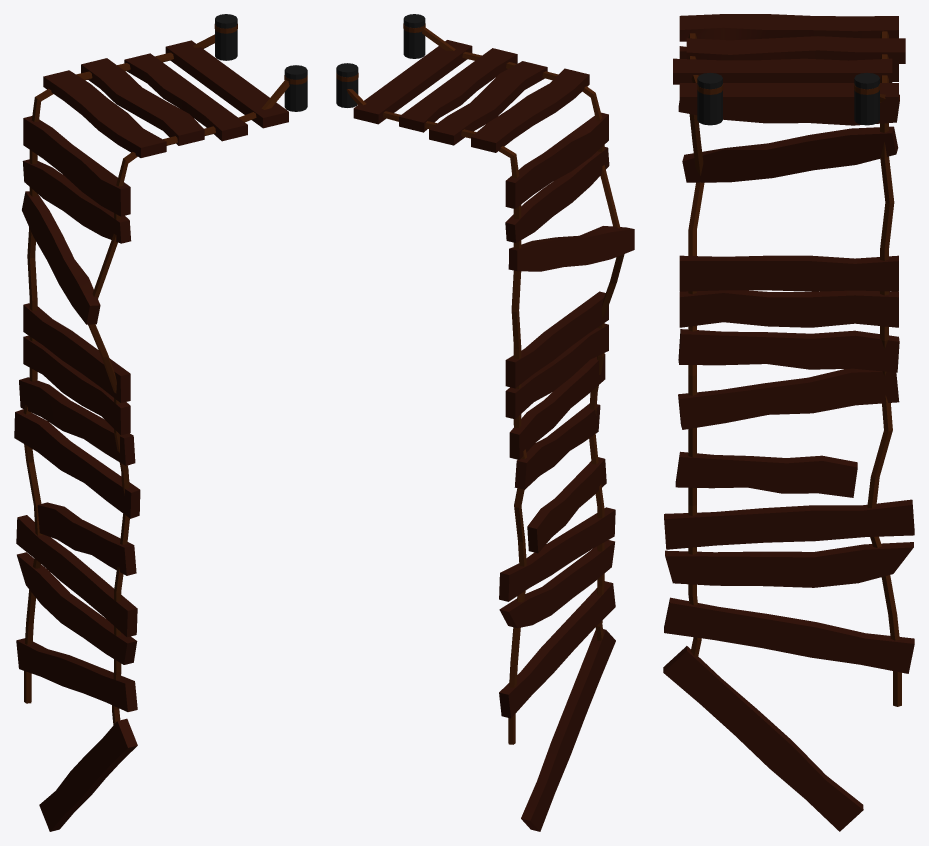
File: Broken Bridge.FBX
The picture shows the model from 3 angles, left to right: view 1: azimuth 30°, elevation 25°; view 2: azimuth 150°, elevation 25°; view 3: azimuth 270°, elevation 25°; orthographic projection. The views are drawn at different scales.
Visible parts, largest first — view 1: Box001, Cylinder003, Cylinder002; view 2: Box001, Cylinder003, Cylinder002; view 3: Box001, Cylinder003, Cylinder002.
Boxes of the visible parts, <box> form: Box001: <box>14,40,288,831</box>; Cylinder003: <box>23,24,307,725</box>; Cylinder002: <box>215,14,307,111</box>; Box001: <box>353,40,634,831</box>; Cylinder003: <box>336,23,624,744</box>; Cylinder002: <box>336,14,425,107</box>; Box001: <box>663,14,914,831</box>; Cylinder003: <box>688,31,901,706</box>; Cylinder002: <box>697,72,879,125</box>.
Size of the model in its own units: 0.645 by 2.04 by 0.545.
